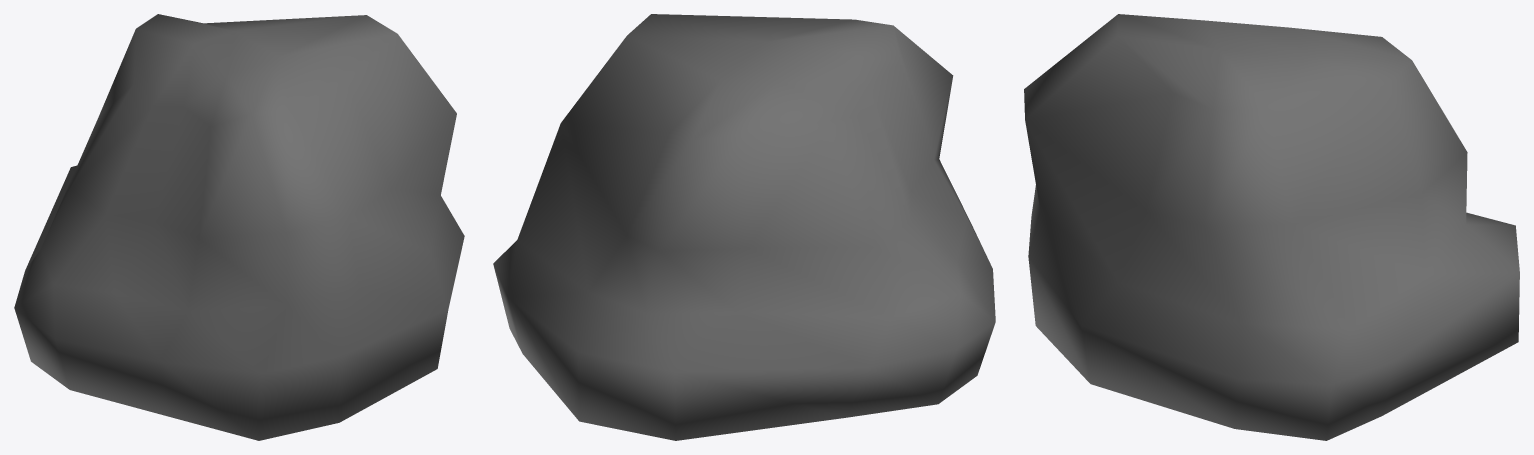
Rendered from Rock.fbx.
3 renders of one model, left to right at view 1: azimuth 30°, elevation 25°; view 2: azimuth 150°, elevation 25°; view 3: azimuth 270°, elevation 25°, orthographic.
Parts seen in each view (by area): view 1: BigRock1; view 2: BigRock1; view 3: BigRock1.
Part boxes in pixels (<box>): BigRock1: <box>14,14,464,440</box>; BigRock1: <box>493,14,995,440</box>; BigRock1: <box>1024,14,1519,440</box>.
Size of the model in its own units: 1475 by 943 by 1439.
1 material, 1 textured.
